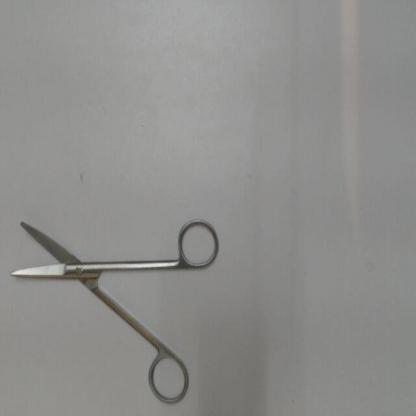Curved Mayo Scissors: (4, 211, 223, 412)
